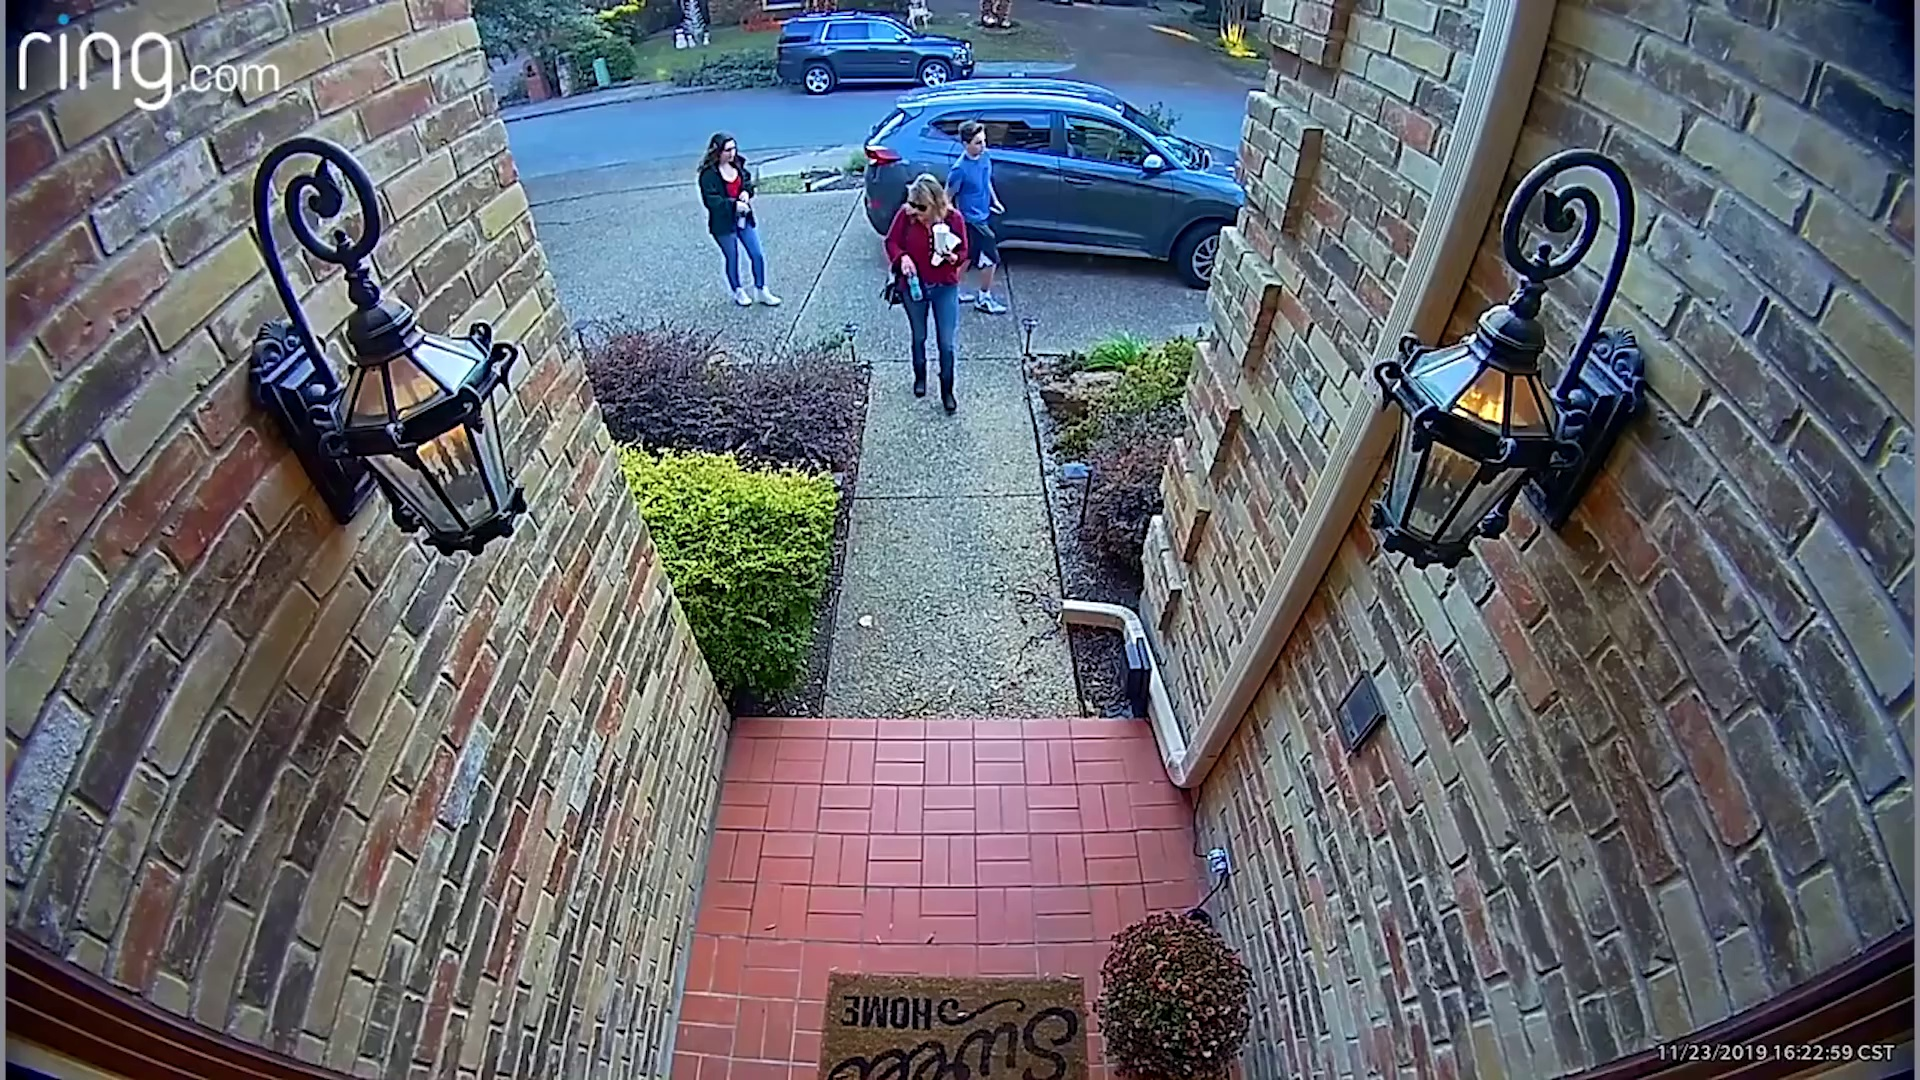face: (908, 194, 932, 222), (965, 128, 987, 157), (718, 138, 737, 163)
